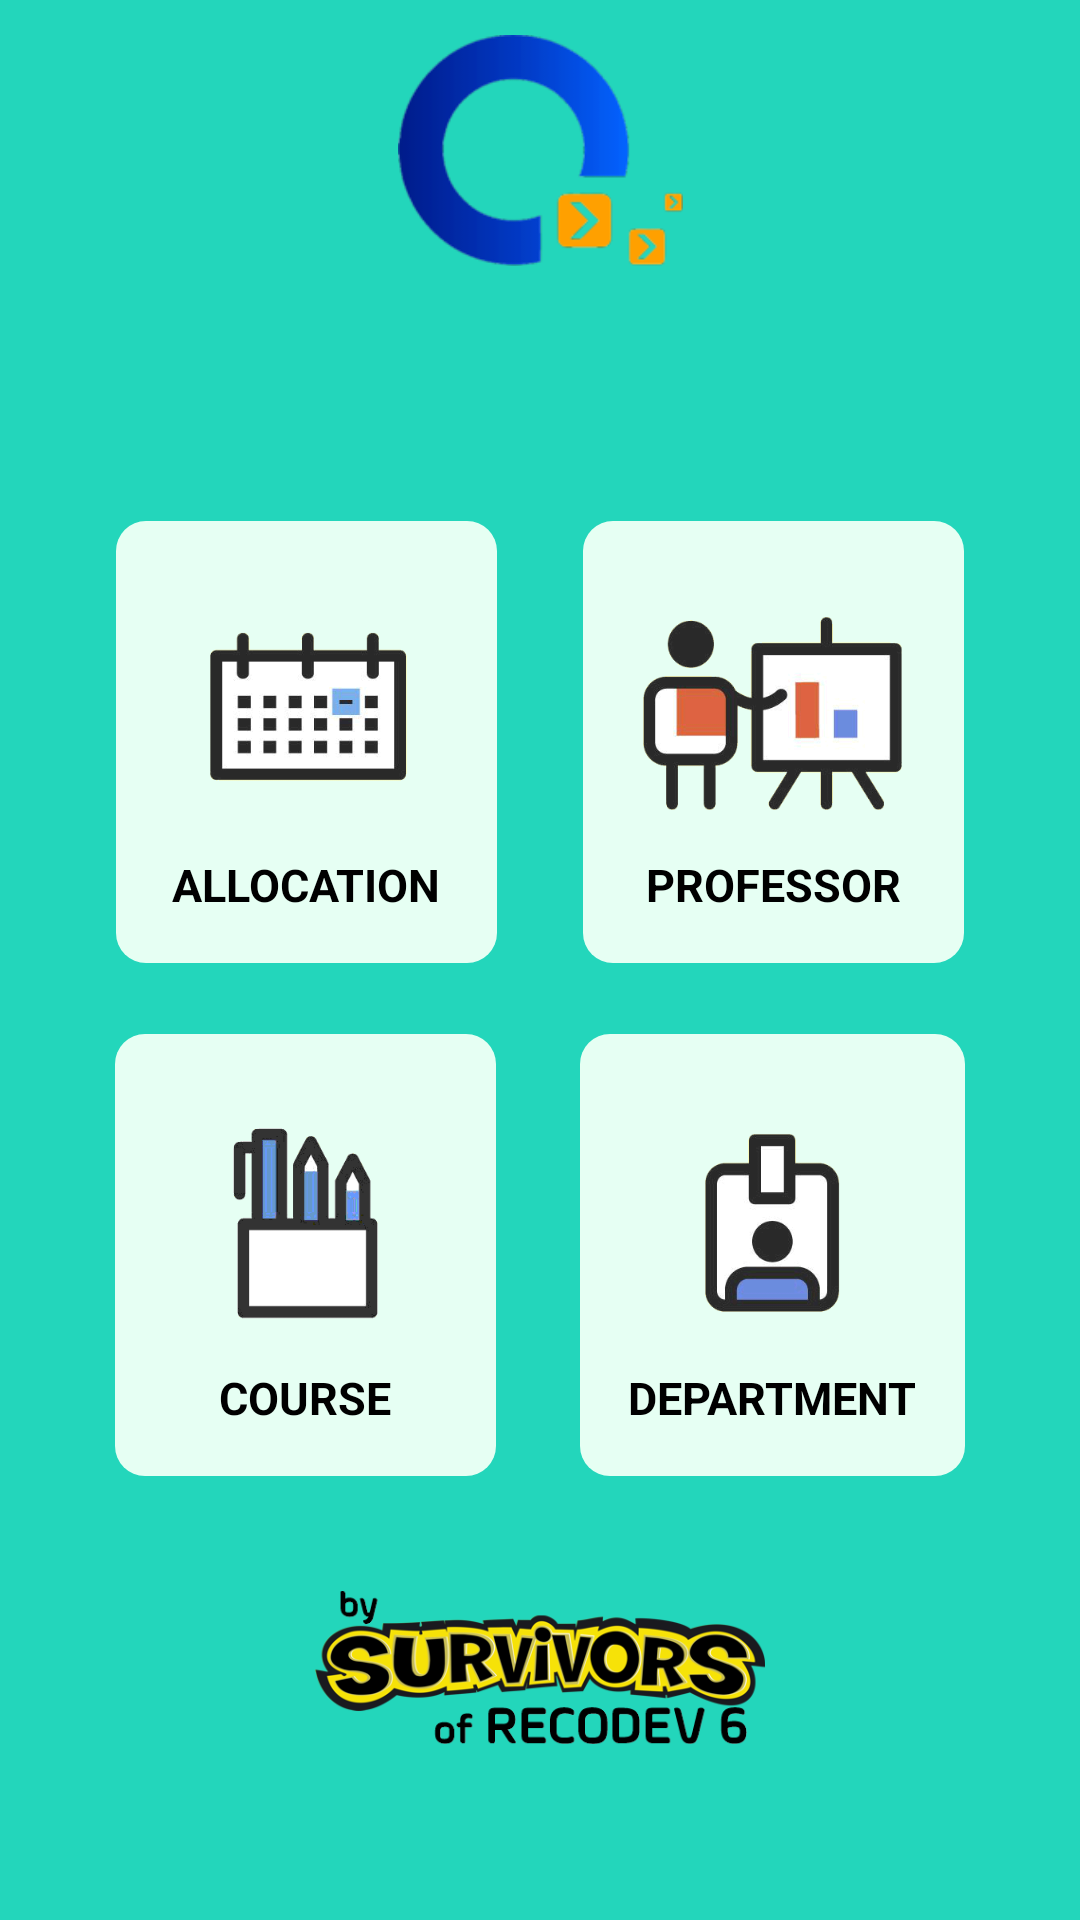

Icon bounding boxes for this 1080 × 1920 phone screenshot, format (x1=x1, y1=y1, x2=x2, y2=y2):
departamento: (x1=705, y1=1134, x2=839, y2=1312)
